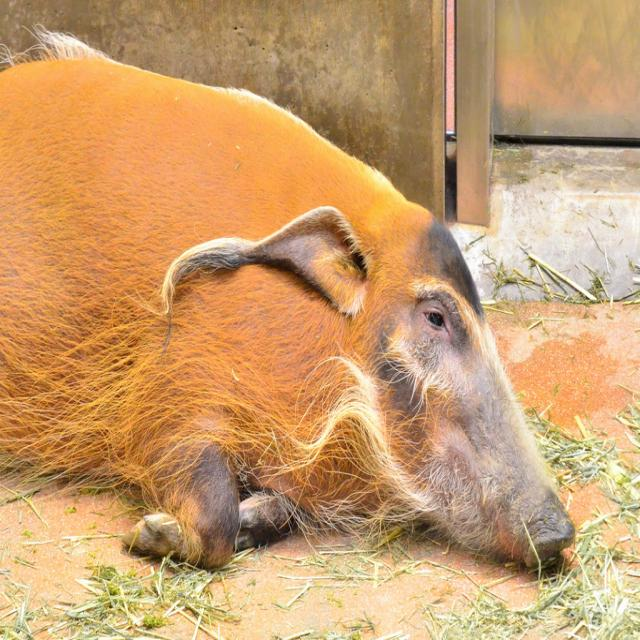Pig: (0, 20, 576, 572)
